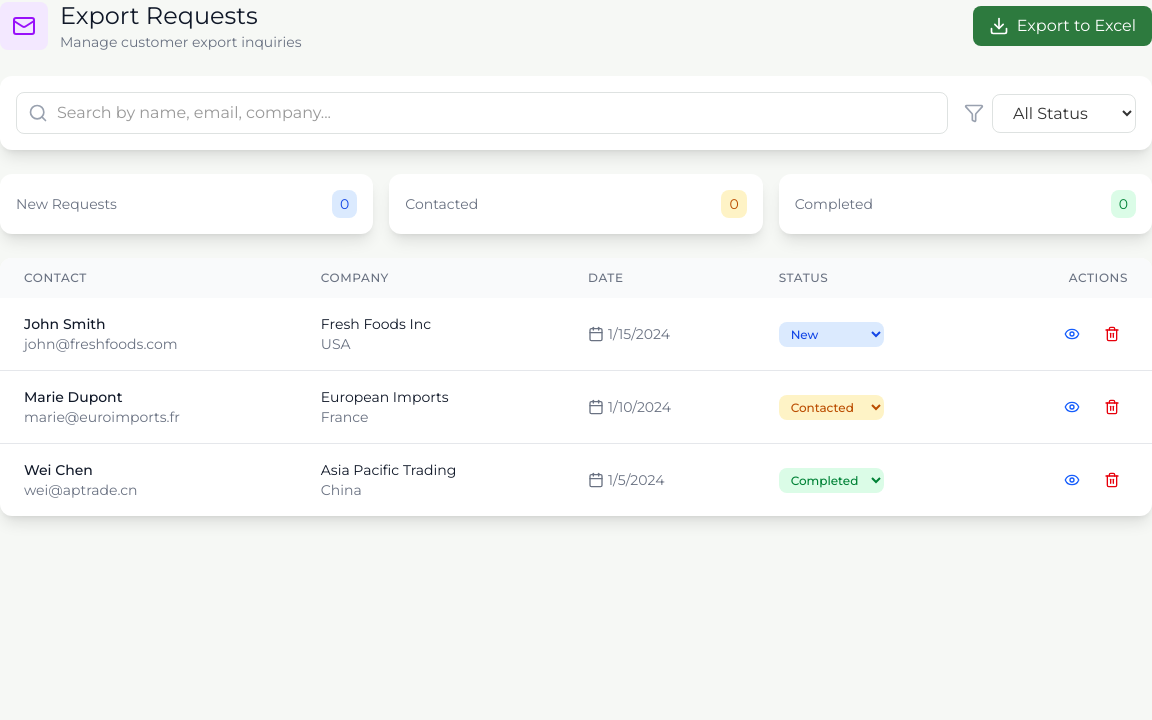
AdminExportRequests › opens detail modal when clicking view button
The width and height of the screenshot is (1152, 720).
Check: the text "John Smith" is shown, box left=24, top=315, right=106, bottom=333
Click the button titled "View Details" in the row of "John Smith".
click(1072, 334)  # box left=1056, top=318, right=1088, bottom=350
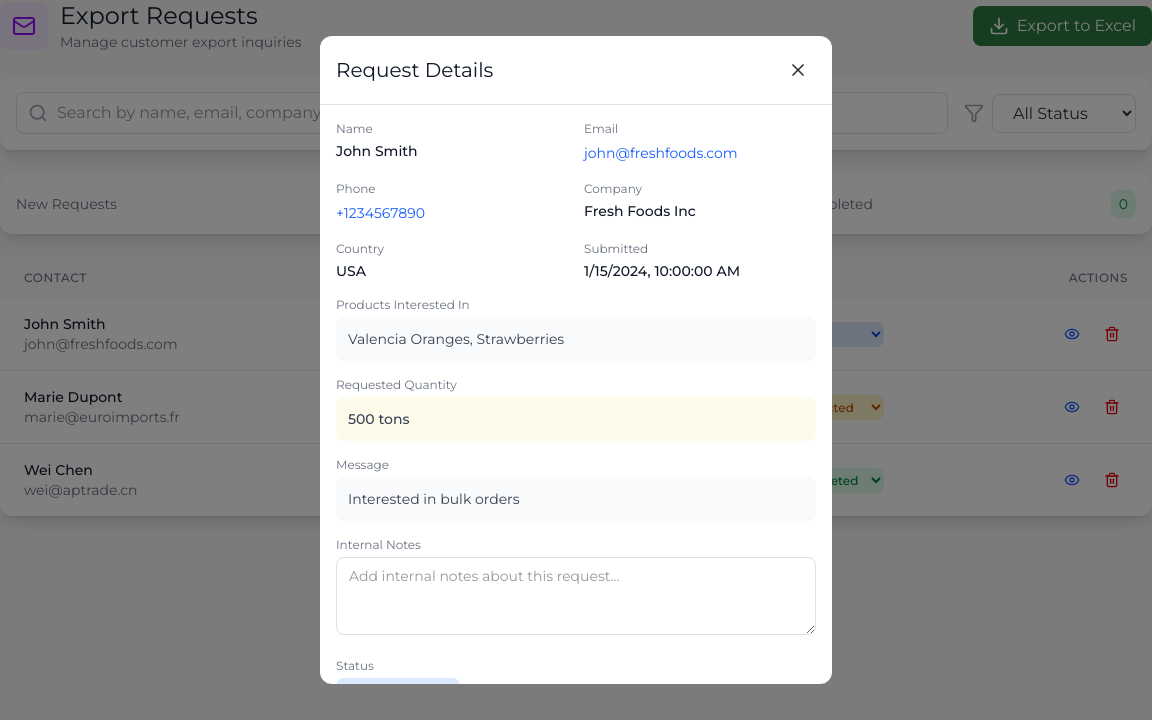
Check: the heading "Request Details" is shown, box left=336, top=56, right=493, bottom=84
Check: the text "Interested in bulk orders" is shown, box left=336, top=477, right=816, bottom=521
